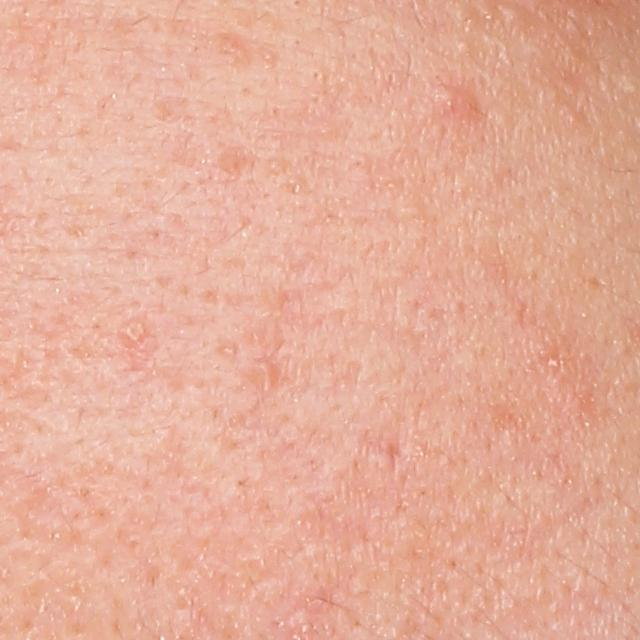comedo: (254, 355, 282, 394), (310, 66, 324, 83)
papule: (437, 83, 467, 110)
